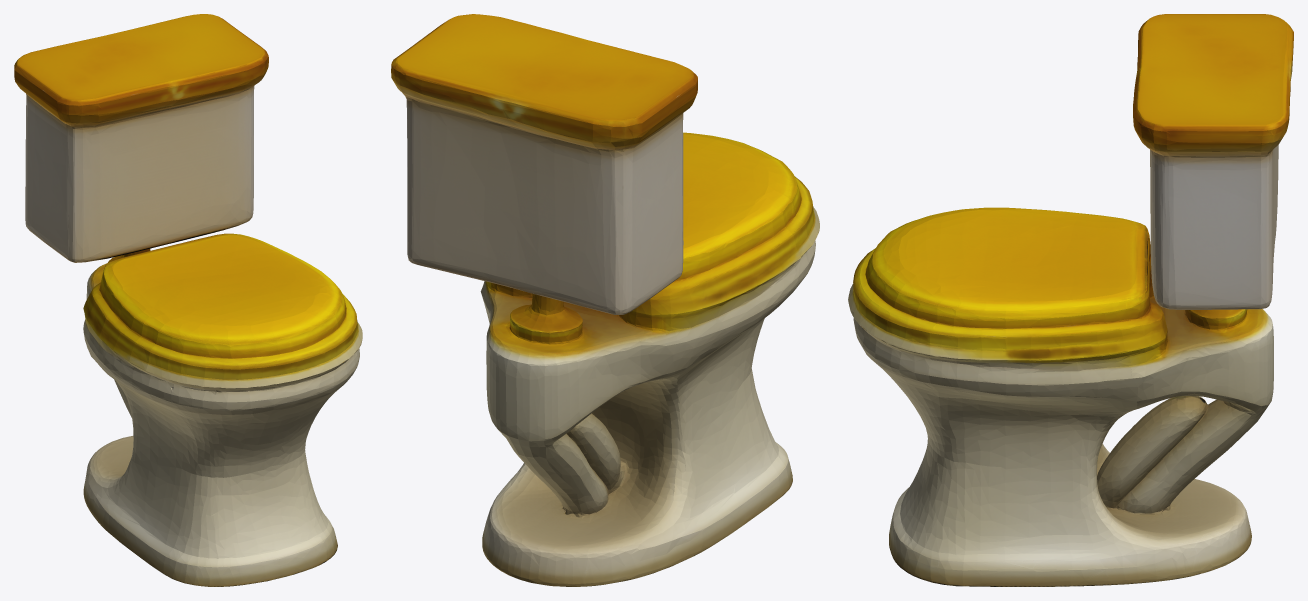
The model's file is toilet.glb.
3 views of the same model, side by side, from view 1: azimuth 30°, elevation 25°; view 2: azimuth 150°, elevation 25°; view 3: azimuth 270°, elevation 25° (orthographic). The views are drawn at different scales.
Visible parts, largest first — view 1: world; view 2: world; view 3: world.
Part boxes in pixels (x1,y1,x2,y2): world: (14, 14, 362, 586); world: (391, 14, 819, 586); world: (848, 14, 1293, 586).
Size of the model in its own units: 0.5486 by 1 by 0.8538.
1 material, 1 textured.
